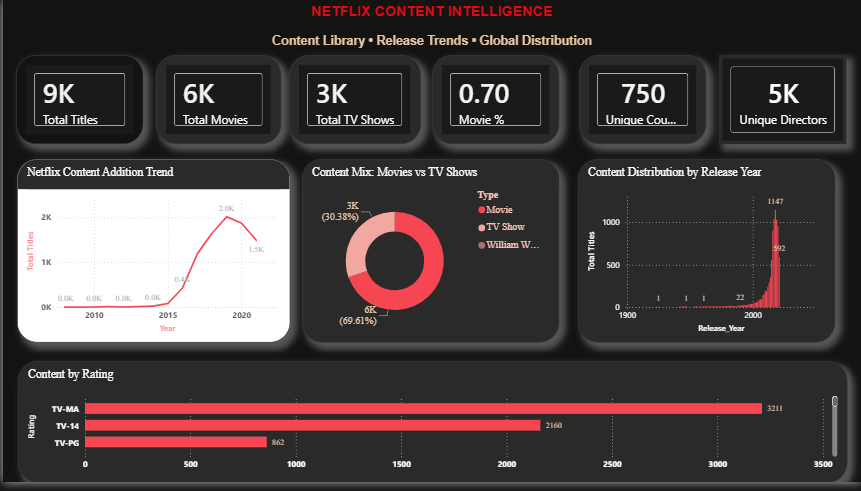

Layout of this report page (visuals, bound fields, positions):
{"tool":"powerbi","page":{"name":"Page 1","canvas":[1280,720],"ordinal":0},"visuals":[{"type":"cardVisual","fields":{"Data":["Netflix.Total Titles"]},"box":[20,81.7,190,133.3],"z":0},{"type":"cardVisual","fields":{"Data":["Netflix.Total Movies"]},"box":[228.3,81.7,186.7,133.3],"z":1000},{"type":"cardVisual","fields":{"Data":["Netflix.Total TV Shows"]},"box":[426.7,81.7,196.7,133.3],"z":2000},{"type":"cardVisual","fields":{"Data":["Netflix.Movie %"]},"box":[640,81.7,190,133.3],"z":3000},{"type":"cardVisual","fields":{"Data":["Netflix.Unique Directors"]},"box":[1068.3,81.7,190,133.3],"z":4000},{"type":"cardVisual","fields":{"Data":["Netflix.Unique Countries"]},"box":[860,81.7,190,133.3],"z":5000},{"type":"donutChart","title":"Content Mix: Movies vs TV Shows","fields":{"Y":["Netflix.Total Titles"],"Category":["Netflix.Type"]},"box":[446.8,237.1,383.9,274.2],"z":6000},{"type":"lineChart","title":"Netflix Content Addition Trend","fields":{"Category":["Calendar.Year"],"Y":["Netflix.Total Titles"]},"box":[21,237.1,408.1,274.2],"z":7000},{"type":"columnChart","title":"Content Distribution by Release Year","fields":{"Category":["Netflix.Release_Year"],"Y":["Netflix.Total Titles"]},"box":[858.1,237.1,383.9,274.2],"z":8000},{"type":"barChart","title":"Content by Rating","fields":{"Category":["Netflix.Rating"],"Y":["Netflix.Total Titles"]},"box":[21.7,538.3,1238.3,181.7],"z":9000},{"type":"textbox","box":[0,0,1280.6,82.3],"z":10000}]}

Visuals, with their boxes in screenshot pixels (x1, y1, x2, y2), scaled from the page's 1280x720 canvas onto the 861x491 screenshot:
cardVisual - Netflix.Total Titles: l=13, t=56, r=141, b=147
cardVisual - Netflix.Total Movies: l=154, t=56, r=279, b=147
cardVisual - Netflix.Total TV Shows: l=287, t=56, r=419, b=147
cardVisual - Netflix.Movie %: l=430, t=56, r=558, b=147
cardVisual - Netflix.Unique Directors: l=719, t=56, r=846, b=147
cardVisual - Netflix.Unique Countries: l=578, t=56, r=706, b=147
"Content Mix: Movies vs TV Shows" donutChart: l=301, t=162, r=559, b=349
"Netflix Content Addition Trend" lineChart: l=14, t=162, r=289, b=349
"Content Distribution by Release Year" columnChart: l=577, t=162, r=835, b=349
"Content by Rating" barChart: l=15, t=367, r=848, b=490
textbox: l=0, t=0, r=860, b=56
